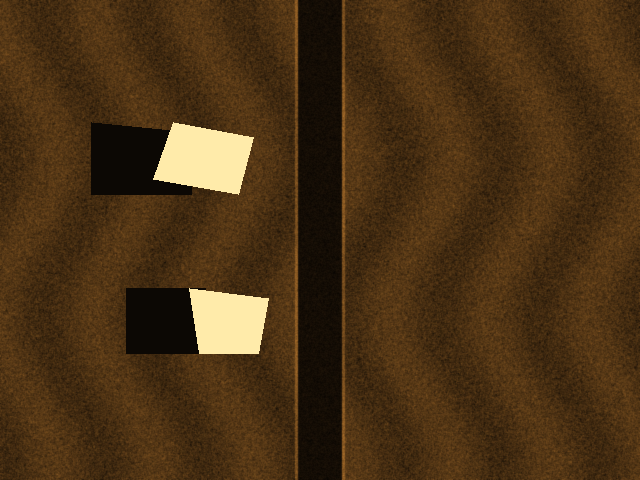Other Man-made Debris: (189, 288, 268, 353)
Unknown Anomaly: (153, 122, 253, 194)
